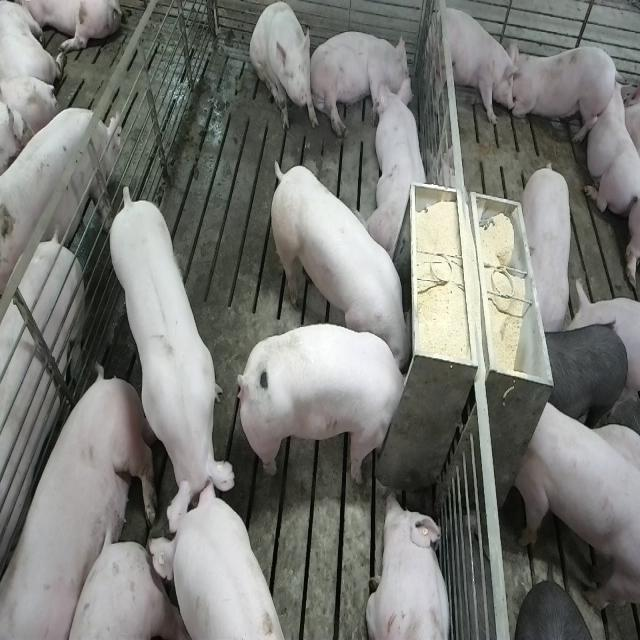Feeding: (266, 160, 411, 369), (243, 322, 417, 487)
Lateral_lying: (5, 367, 158, 640), (308, 30, 413, 139)
Sitting: (251, 2, 314, 134)
Standing: (104, 188, 230, 526), (0, 224, 87, 630), (515, 396, 639, 621), (0, 102, 121, 305), (146, 481, 284, 640), (430, 5, 519, 130), (544, 320, 629, 426), (523, 159, 575, 331)
Sternal_lying: (366, 489, 453, 640), (368, 80, 432, 262), (512, 36, 619, 140), (585, 69, 639, 215)
